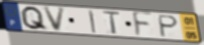F: (131, 10, 155, 39)
I: (87, 9, 98, 34)
P: (158, 14, 180, 39)
Q: (20, 6, 50, 32)
T: (101, 10, 123, 36)
V: (42, 7, 67, 33)
